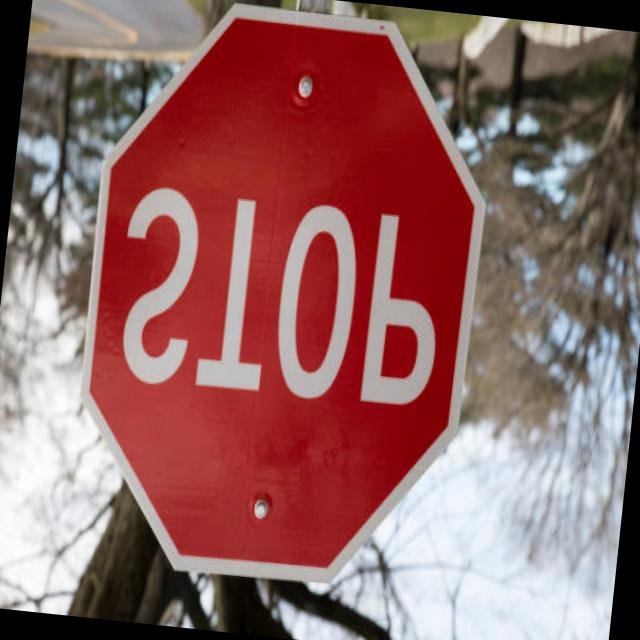stop: (52, 0, 511, 611)
